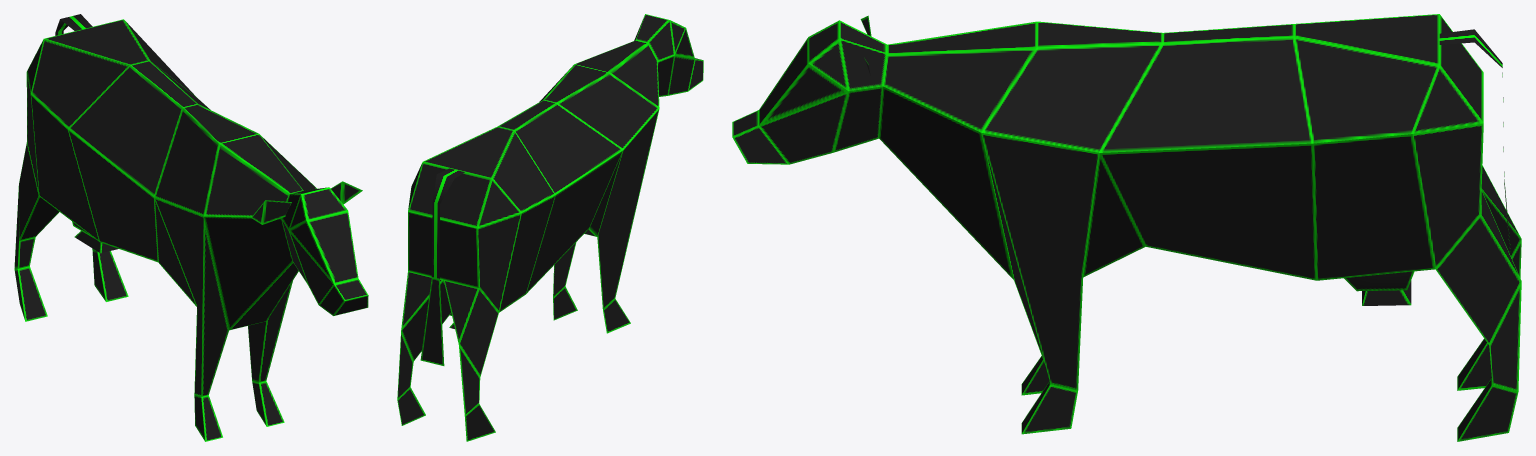
File: Cow2.fbx
3 renders of one model, left to right at view 1: azimuth 30°, elevation 25°; view 2: azimuth 150°, elevation 25°; view 3: azimuth 270°, elevation 25°, orthographic. The views are drawn at different scales.
Visible parts, largest first — view 1: Cow; view 2: Cow; view 3: Cow.
Boxes of the visible parts, x1,y1,x2,y2 form: Cow: [14, 14, 368, 441]; Cow: [397, 14, 703, 441]; Cow: [732, 14, 1521, 441].
Size of the model in its own units: 2.18 by 4.72 by 8.89.
1 material, 1 textured.
